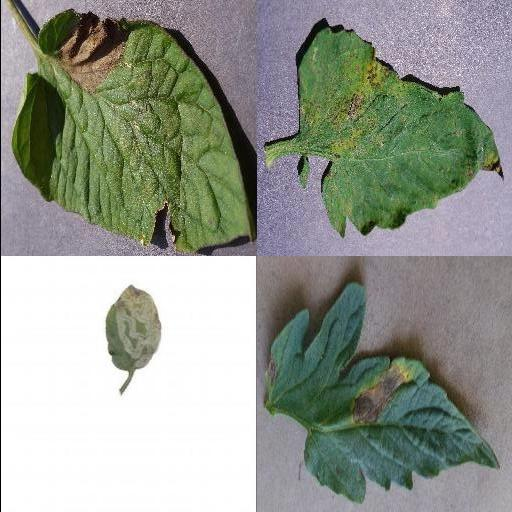Early Blight: (260, 283, 504, 507)
Late Blight: (13, 9, 255, 251)
Leaf Miner: (106, 284, 163, 372)
Septoria: (296, 25, 504, 238)
